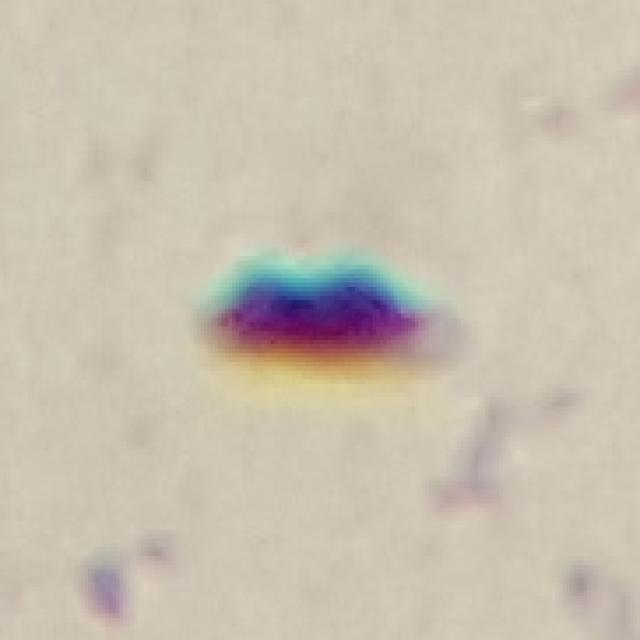non-sperm: (199, 264, 459, 376)
